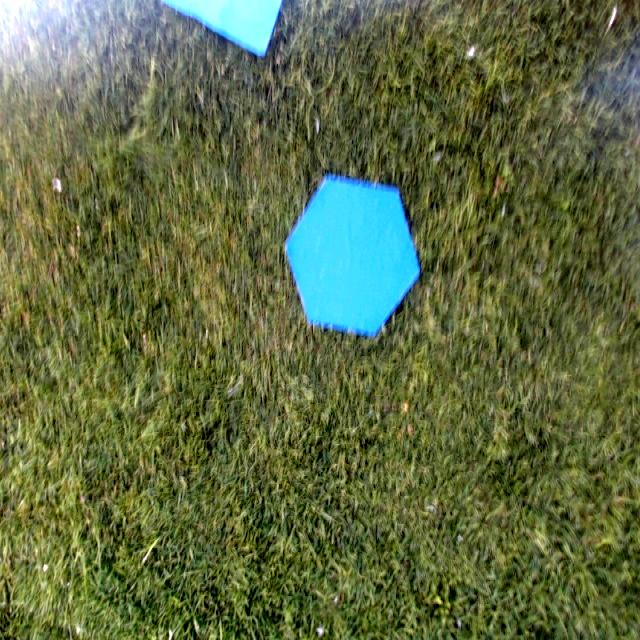blue_hexagon: (283, 172, 422, 337)
